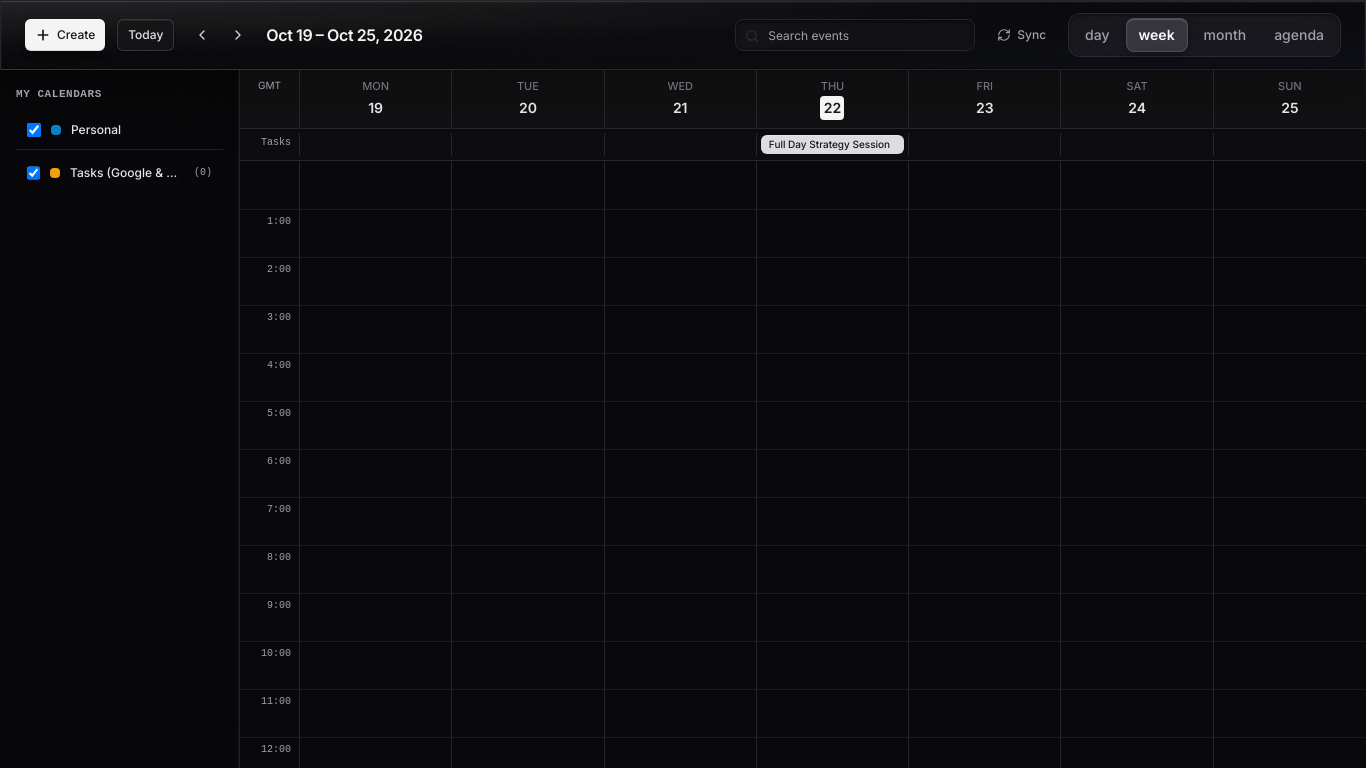
Test: Deep Two-Way Synchronization & Calendar Polish Verification › renders all-day events in Day View with interactive click-to-edit support
Switch to Day view
Step 1. Click the tab "day" → (1097, 35), box [1073,19,1122,51]
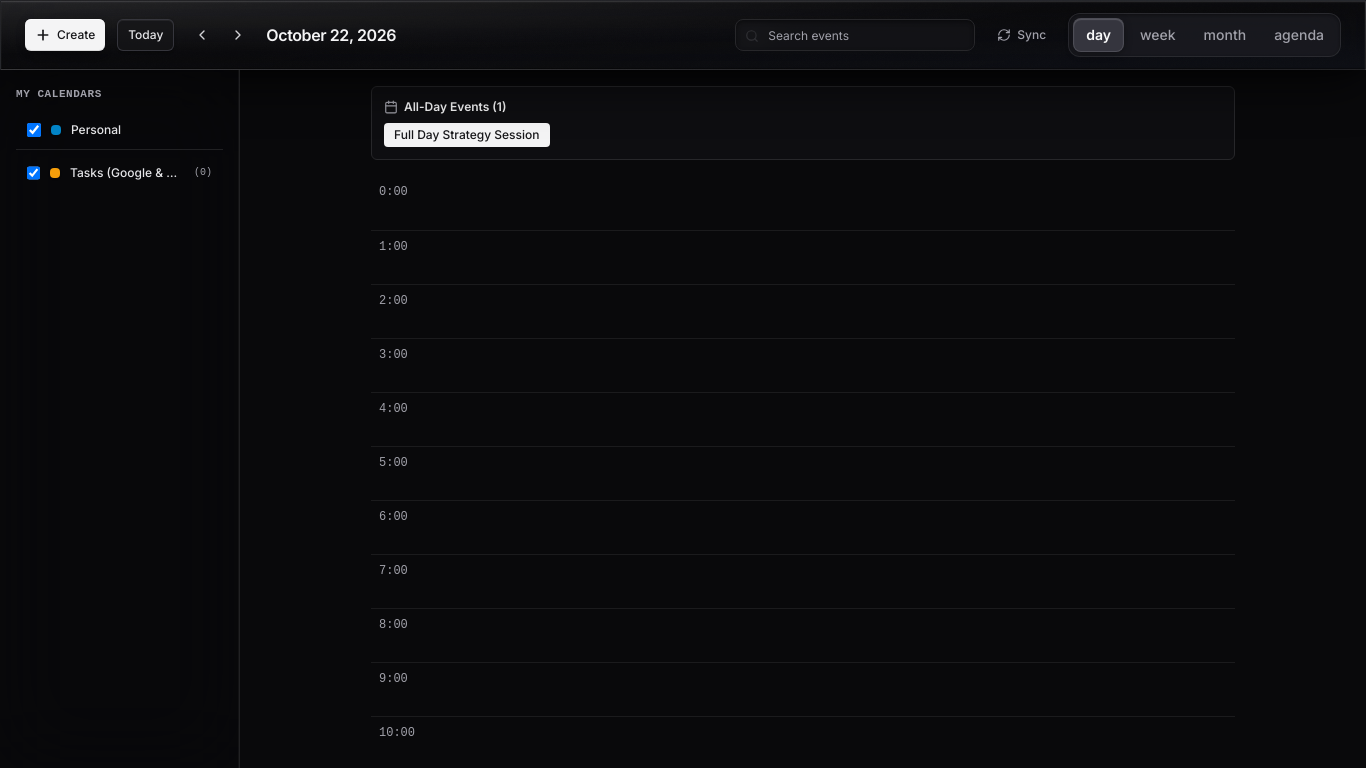
Now the text "All-Day Events (1)" is shown, box [404,99,506,115]
Click to edit opens modal
Step 2. Click the text "Full Day Strategy Session" → (467, 135), box [384,123,550,147]
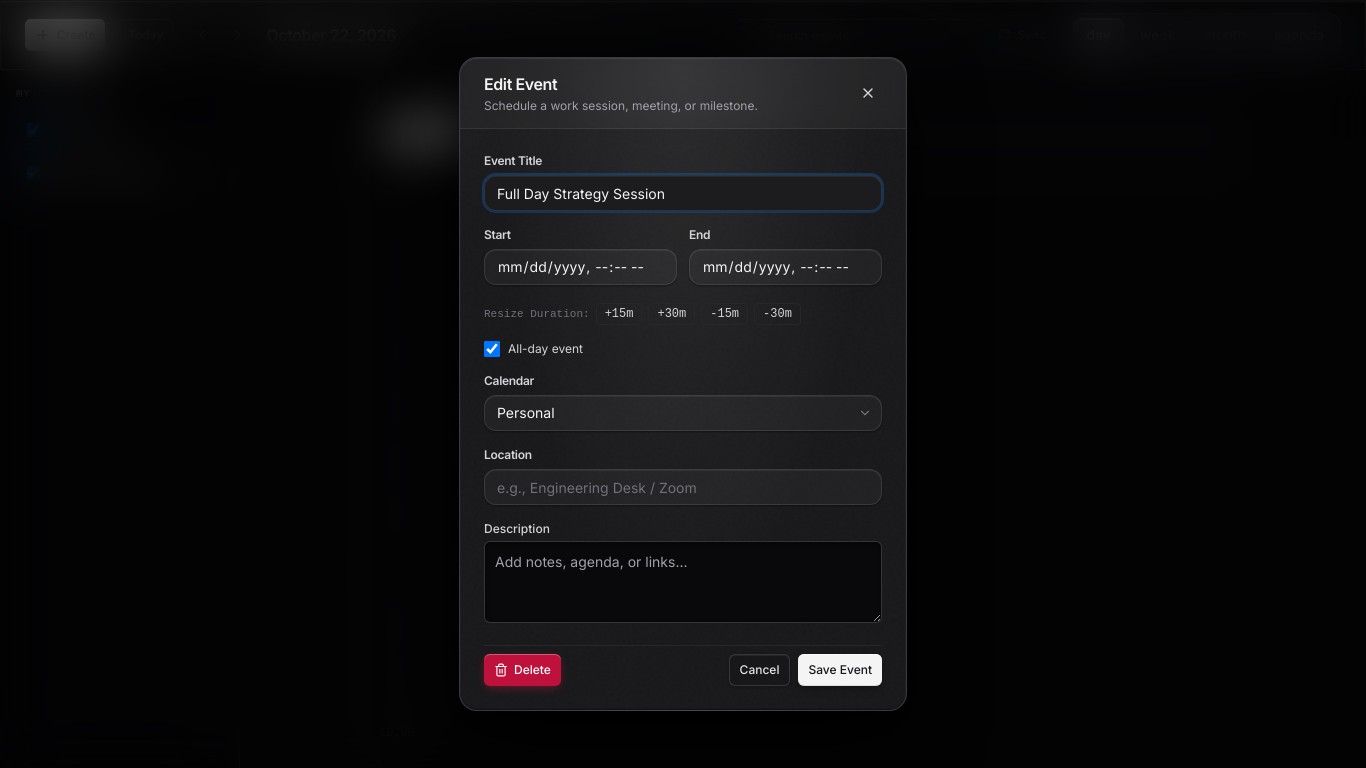
Now the heading "Edit Event" is shown, box [484,74,557,94]
